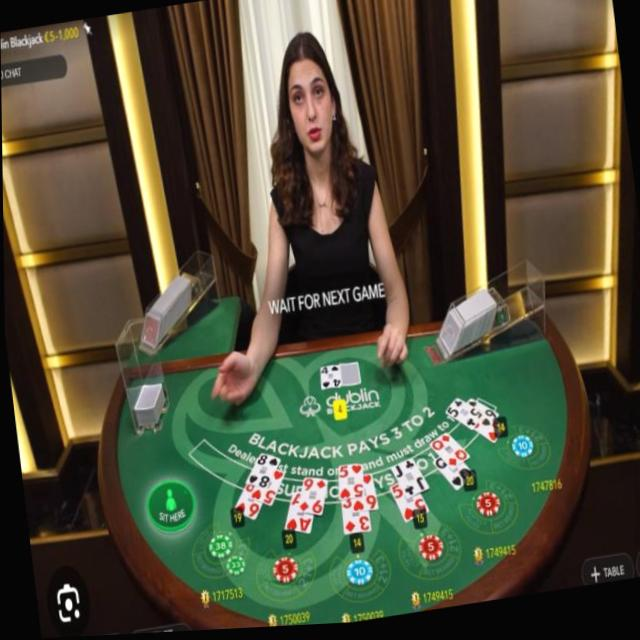Card-3: (338, 500, 369, 537), (473, 425, 505, 448)
Card-4: (318, 368, 339, 392)
Card-5: (388, 486, 427, 527), (443, 400, 483, 434), (250, 472, 283, 508), (337, 468, 360, 502)
Card-6: (349, 477, 377, 515), (232, 485, 260, 521), (466, 402, 497, 433)
Card-8: (244, 455, 279, 491)
Card-9: (296, 480, 325, 518)
Card-A: (282, 494, 311, 536)
Card-J: (389, 461, 427, 503)
Card-Q: (427, 435, 468, 475), (431, 461, 473, 496)
